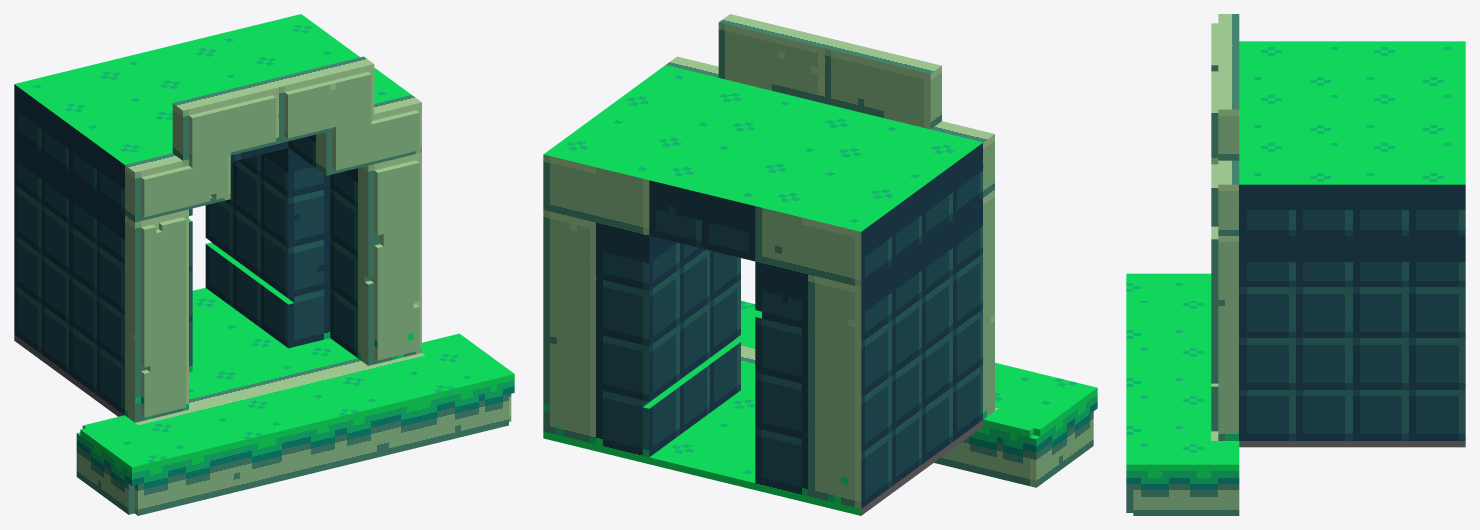
Rendered from grave_alcove_bao.fezao.glb.
3 views of the same model, side by side, from view 1: azimuth 30°, elevation 25°; view 2: azimuth 150°, elevation 25°; view 3: azimuth 270°, elevation 25° (orthographic). The views are drawn at different scales.
Parts seen in each view (by area): view 1: GRAVE_ALCOVE_BAO; view 2: GRAVE_ALCOVE_BAO; view 3: GRAVE_ALCOVE_BAO.
Part boxes in pixels (<box>): GRAVE_ALCOVE_BAO: <box>14,14,514,515</box>; GRAVE_ALCOVE_BAO: <box>543,14,1097,515</box>; GRAVE_ALCOVE_BAO: <box>1126,14,1465,515</box>.
Bounding box in the file's own units: 4 × 3.5 × 3.
1 material, 1 textured.
